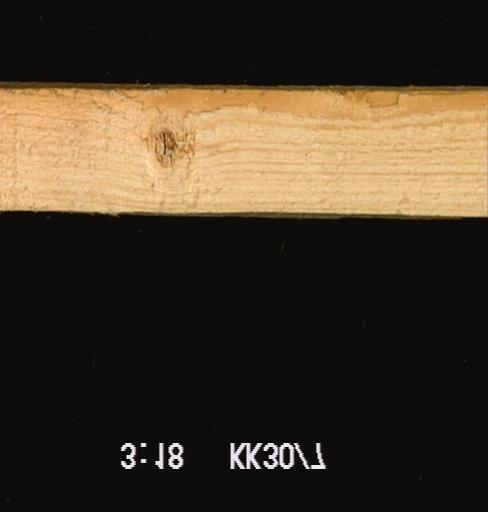sound_knot: (148, 124, 186, 174)
